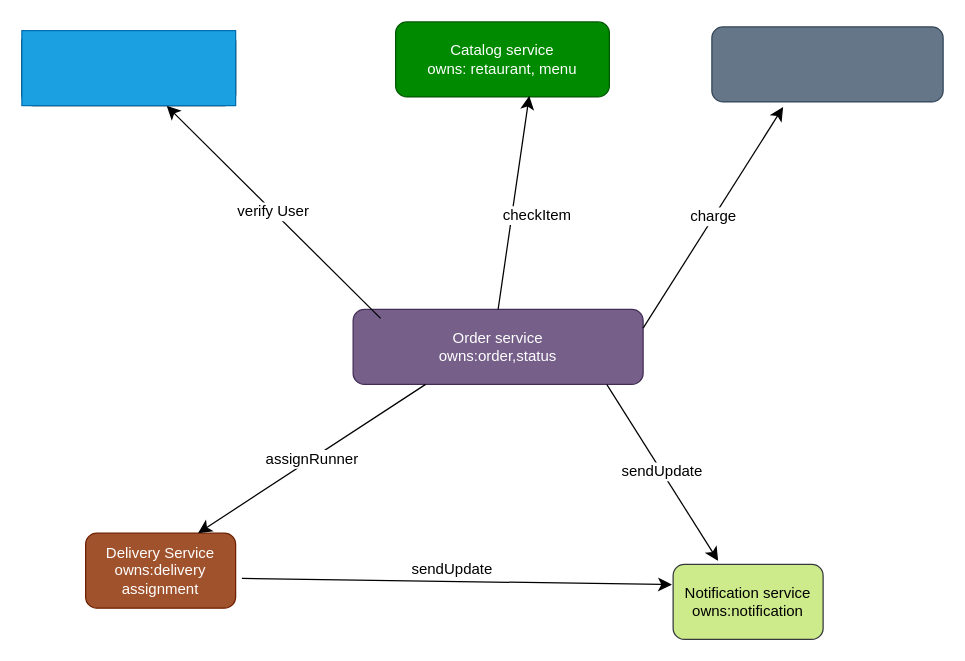
The diagram is 965 pixels wide and 661 high, and some of its shapes have lost their labels. Each missing label, with the centre of its shape:
Auth Service owns: user accounts: pixel 128 67
Payment Service owns:payment: pixel 827 64
